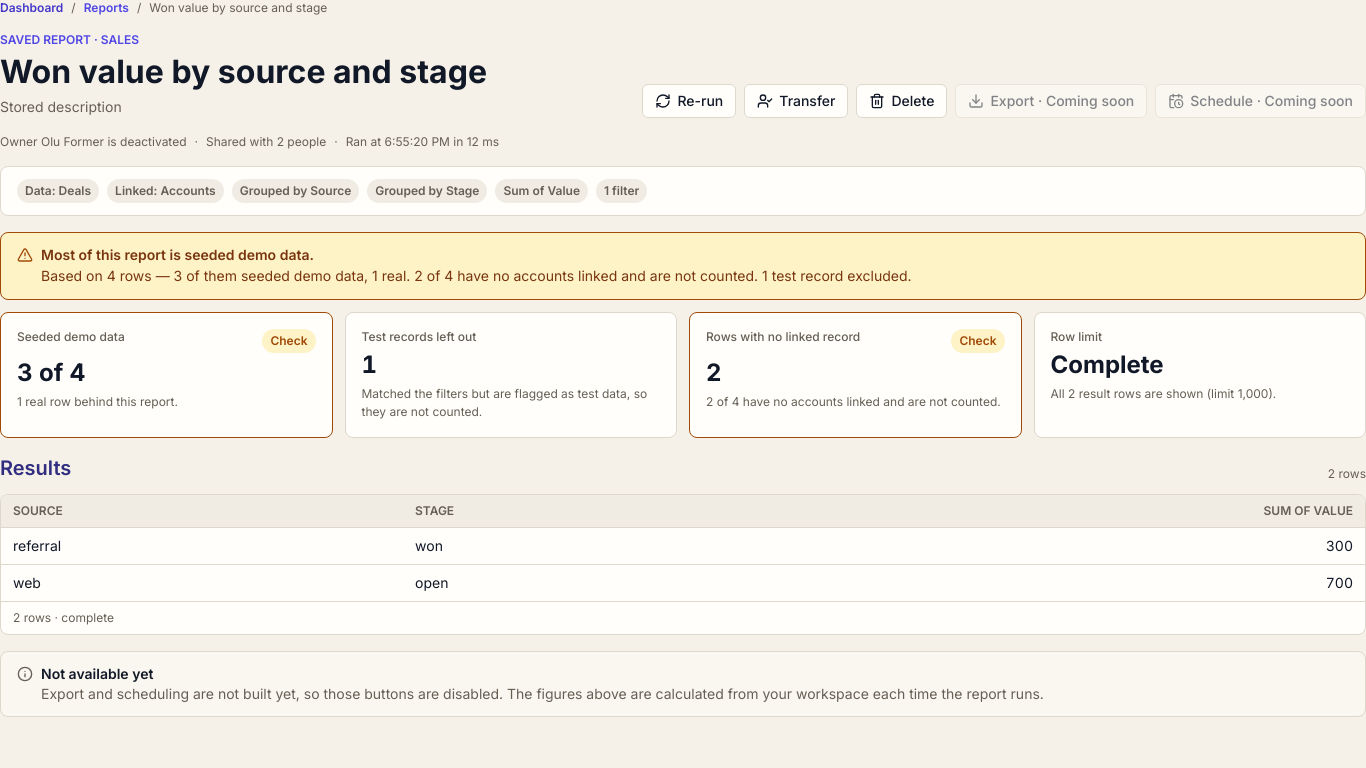
admin transfer of an ownerless report › picks from step c's candidates (not the roster), and reports success only after the server recorded it
Click the button "Transfer": (796, 101) [744,84,848,118]
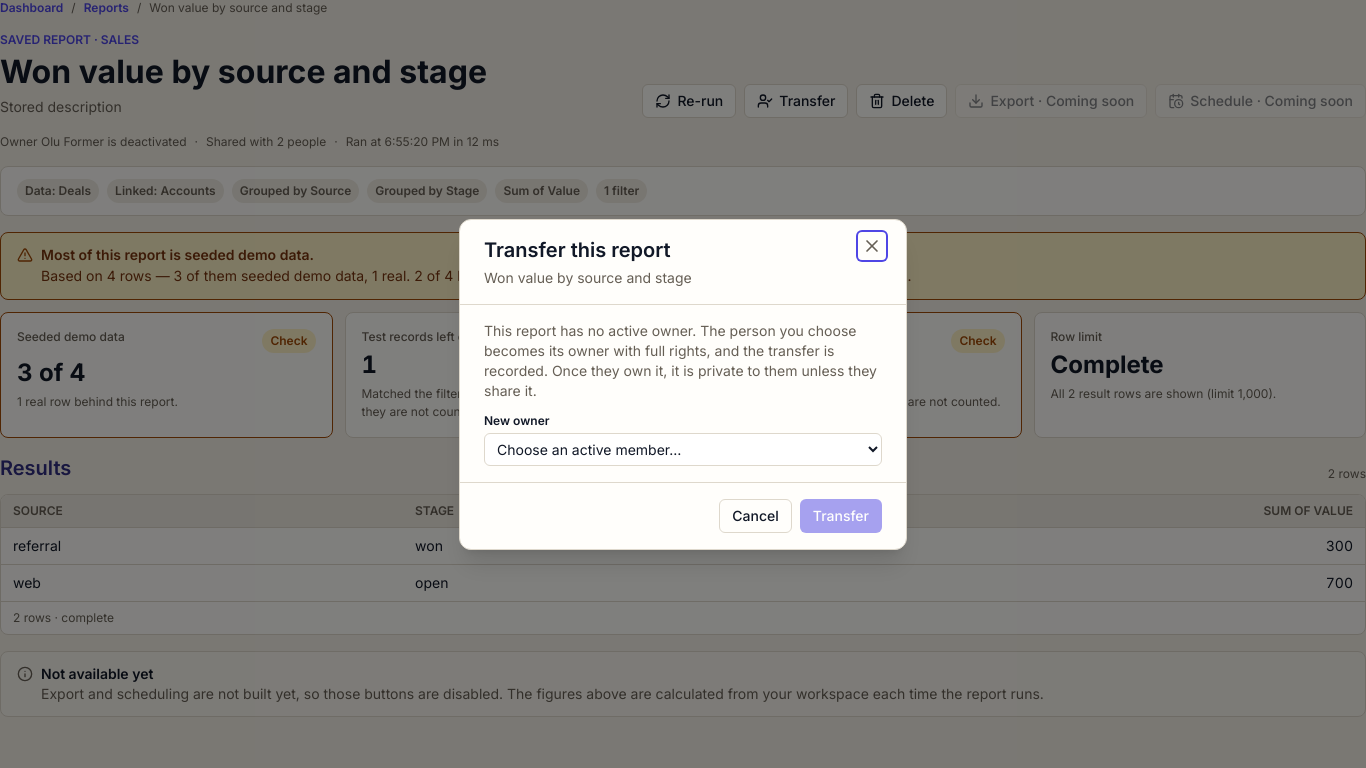
Result: the button "Transfer" is disabled at [800,498,882,532]
Select "Bo New · bo@x.test" in the dropdown: (683, 449) [484,432,882,466]
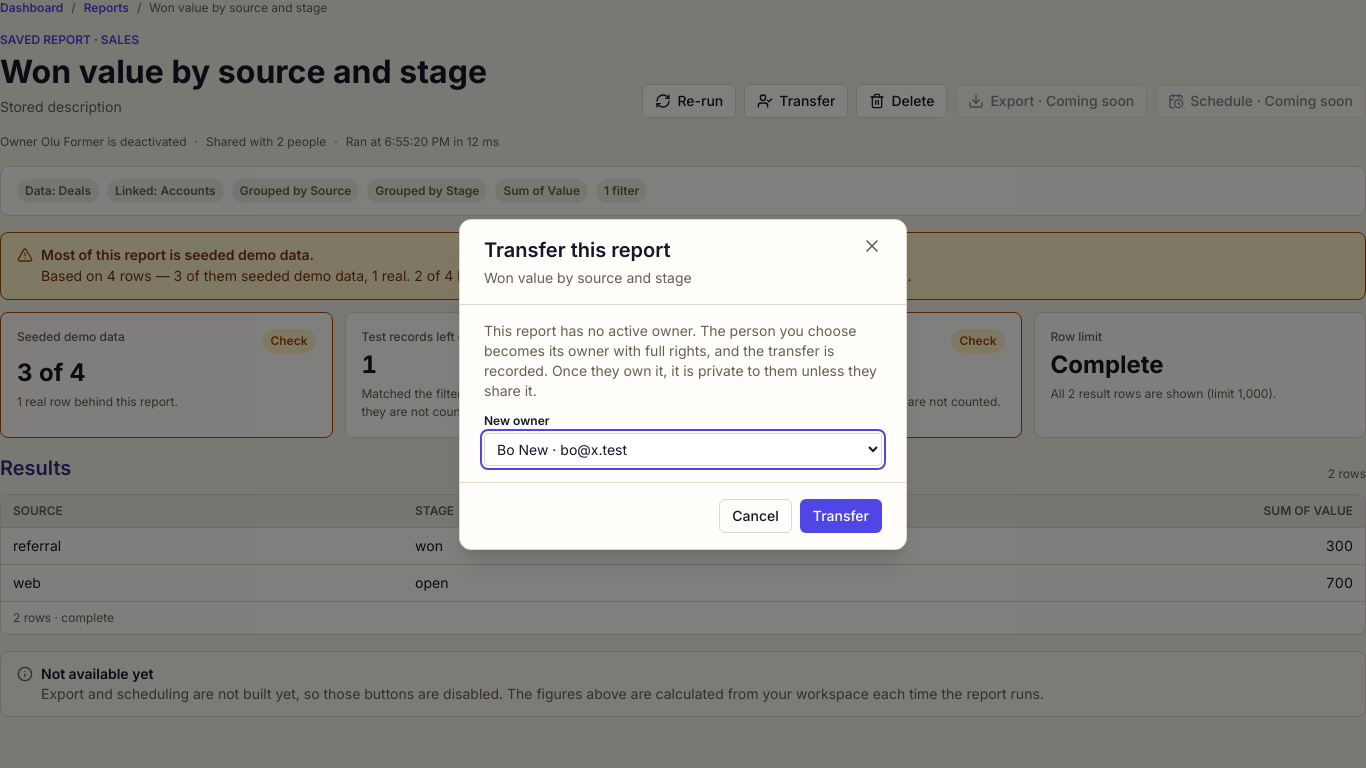
Click the button "Transfer": (841, 516) [800,498,882,532]
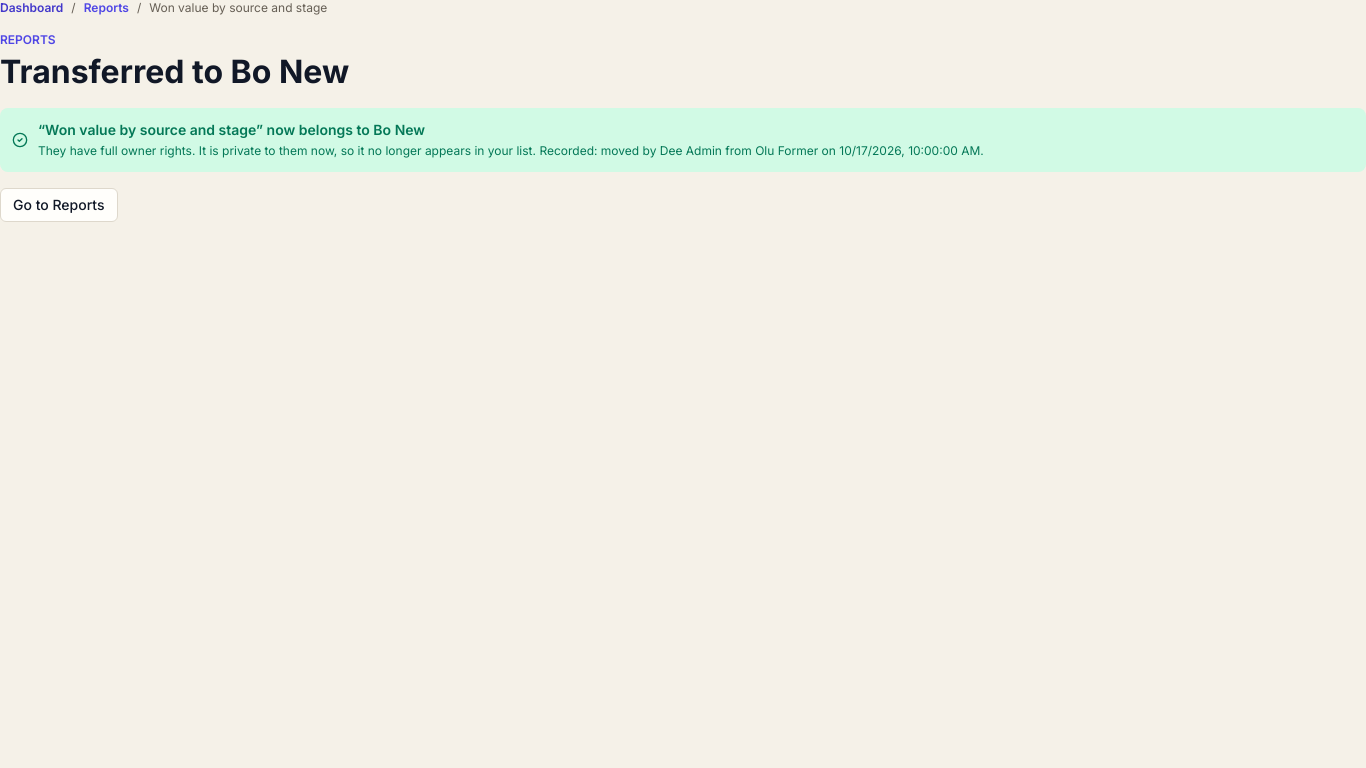
Result: the element with test id "report-transferred" shows "Transferred to Bo New" at [0,52,349,91]
Result: the element with test id "report-transferred" shows "moved by Dee Admin from Olu Former" at [0,0,1365,222]
